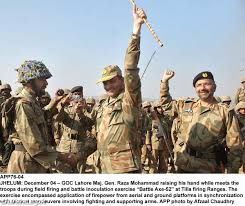uniform: (173, 64, 233, 173), (86, 60, 141, 171), (8, 63, 54, 177), (57, 88, 88, 153), (148, 99, 173, 172)
